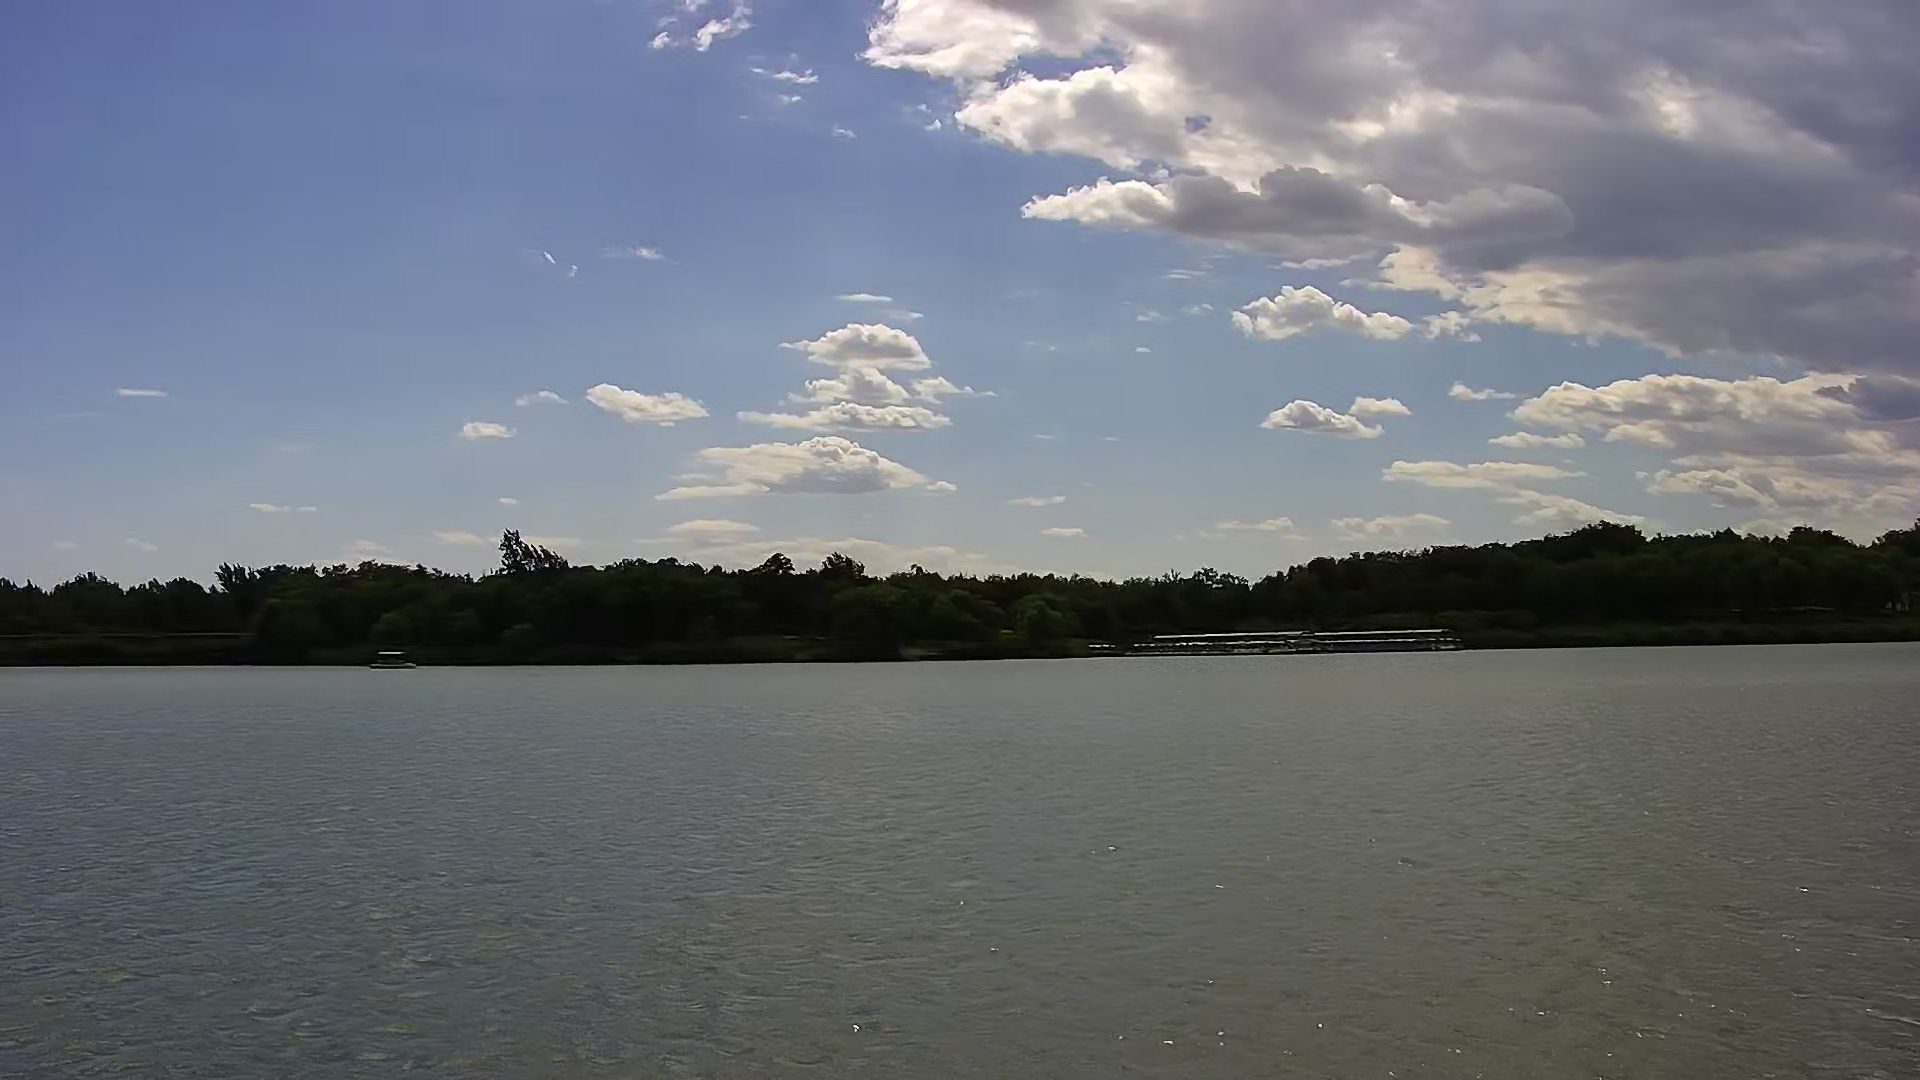boat: (364, 642, 418, 673)
harbor: (1110, 629, 1462, 659)
